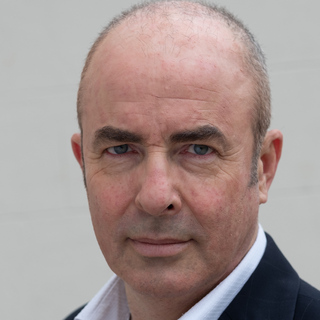eye: (176, 140, 227, 167), (95, 140, 146, 163)
